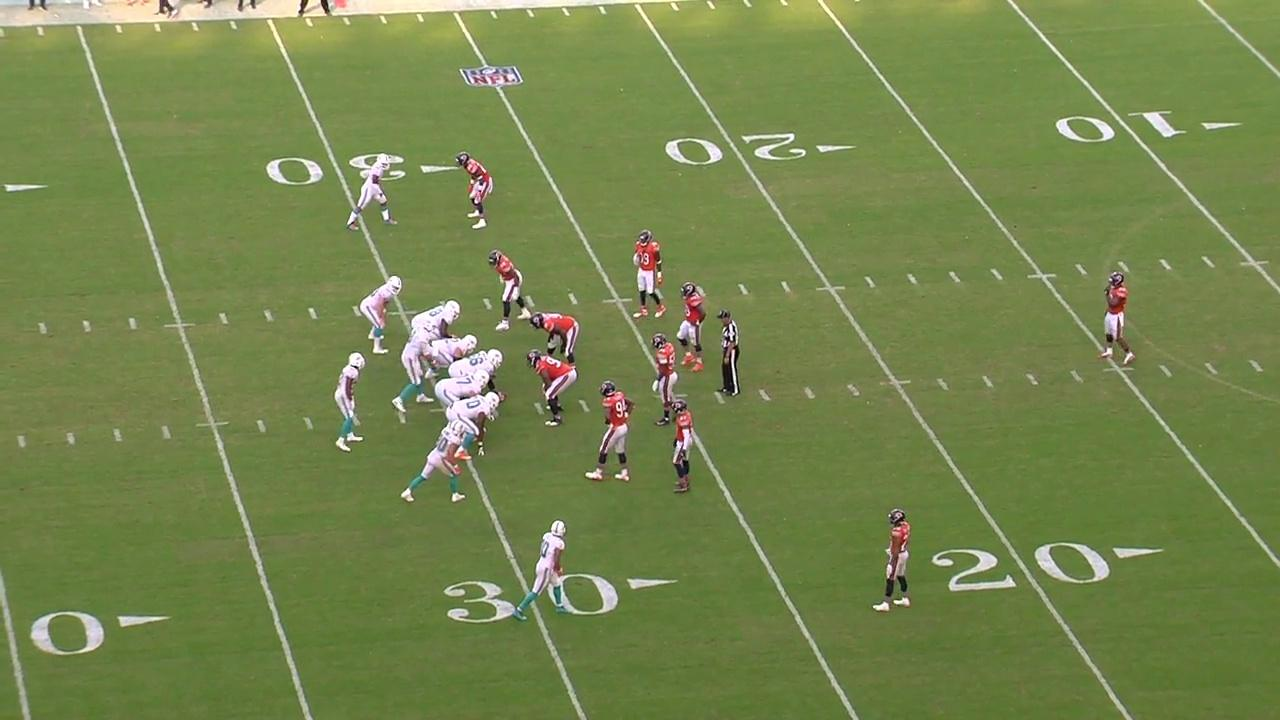defense: (583, 376, 635, 482), (873, 506, 919, 612), (524, 349, 581, 429), (1098, 261, 1137, 371), (629, 222, 670, 324), (451, 143, 496, 234), (488, 246, 532, 331), (664, 397, 699, 500), (643, 331, 682, 423), (675, 279, 710, 378), (526, 309, 583, 362)
oline: (445, 387, 501, 455), (434, 368, 489, 412), (407, 301, 463, 337), (448, 350, 507, 382), (432, 334, 480, 361)
qb: (387, 318, 437, 423)
ref: (711, 306, 744, 402)
skill: (510, 514, 581, 626), (397, 420, 468, 507), (326, 345, 371, 458), (344, 146, 397, 241), (354, 268, 406, 358)
